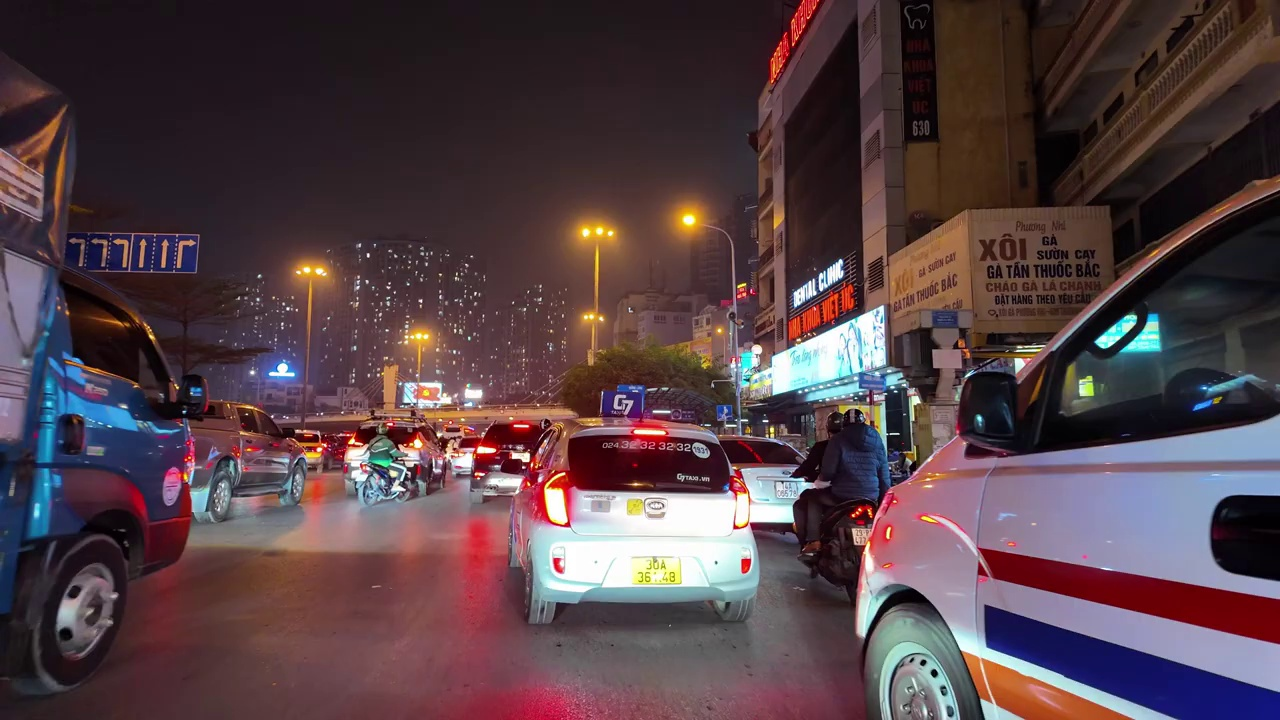acesa: (577, 219, 616, 247), (672, 204, 704, 236), (294, 260, 332, 286), (407, 326, 435, 352), (578, 307, 603, 330)
